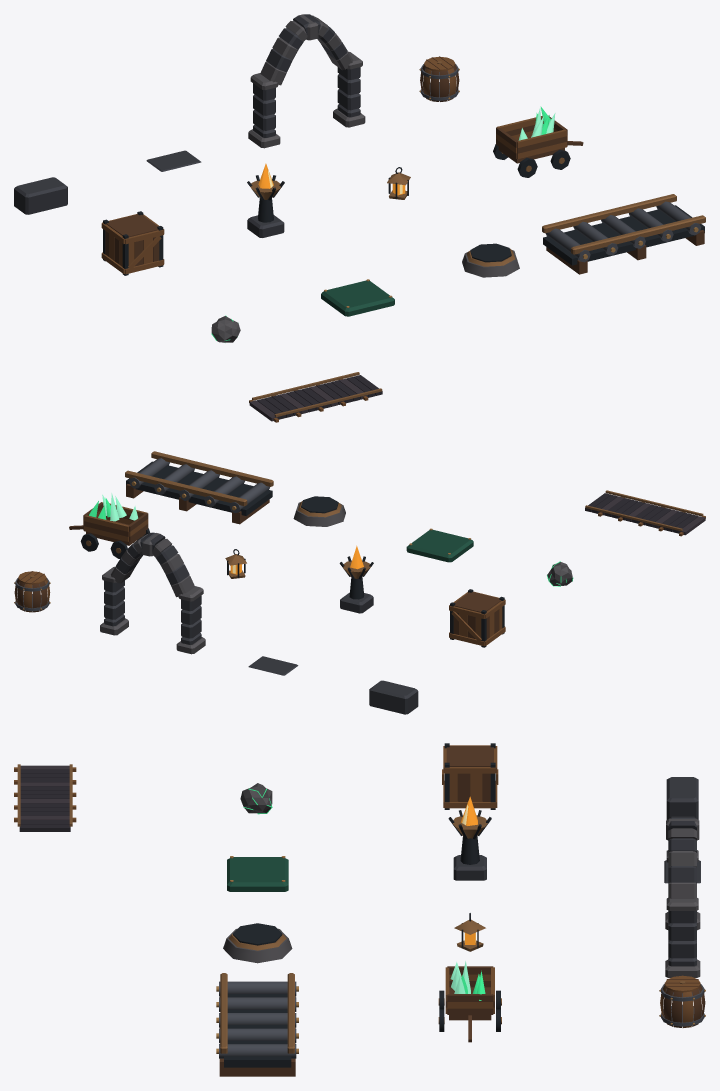
Rendered from dungeon-model-kit.glb.
The picture shows the model from 3 angles, top to bottom: view 1: azimuth 30°, elevation 25°; view 2: azimuth 150°, elevation 25°; view 3: azimuth 270°, elevation 25°; orthographic projection. The views are drawn at different scales.
Visible parts, largest first — view 1: iron-timber-conveyor-chassis, gothic-pointed-stone-arch, emerald-mine-cart, bronze-railed-snake-track, braced-timber-crate, jade-worker-pad, iron-crown-fire-brazier, wall-stone, coopered-ironbound-barrel, octagonal-storage-plinth, flagstone; view 2: iron-timber-conveyor-chassis, gothic-pointed-stone-arch, bronze-railed-snake-track, emerald-mine-cart, braced-timber-crate, jade-worker-pad, wall-stone, iron-crown-fire-brazier, coopered-ironbound-barrel, octagonal-storage-plinth, flagstone, green-veined-ore (+1 smaller); view 3: iron-timber-conveyor-chassis, gothic-pointed-stone-arch, bronze-railed-snake-track, braced-timber-crate, emerald-mine-cart, jade-worker-pad, octagonal-storage-plinth, coopered-ironbound-barrel, iron-crown-fire-brazier, wall-stone, green-veined-ore, caged-amber-lantern.
Boxes of the visible parts, x1,y1,x2,y2 form: iron-timber-conveyor-chassis: (542, 194, 705, 274); gothic-pointed-stone-arch: (248, 14, 365, 148); emerald-mine-cart: (493, 106, 583, 177); bronze-railed-snake-track: (249, 372, 382, 422); braced-timber-crate: (101, 211, 164, 275); jade-worker-pad: (321, 279, 394, 316); iron-crown-fire-brazier: (247, 163, 284, 237); wall-stone: (14, 177, 67, 214); coopered-ironbound-barrel: (419, 56, 459, 101); octagonal-storage-plinth: (462, 243, 519, 277); flagstone: (146, 150, 201, 171); iron-timber-conveyor-chassis: (125, 451, 273, 524); gothic-pointed-stone-arch: (100, 532, 205, 654); bronze-railed-snake-track: (585, 490, 705, 536); emerald-mine-cart: (69, 493, 150, 558); braced-timber-crate: (449, 589, 505, 647); jade-worker-pad: (406, 528, 473, 562); wall-stone: (369, 680, 418, 714); iron-crown-fire-brazier: (339, 545, 373, 613); coopered-ironbound-barrel: (14, 571, 50, 612); octagonal-storage-plinth: (293, 496, 345, 526); flagstone: (248, 656, 298, 675); green-veined-ore: (547, 561, 573, 586); iron-timber-conveyor-chassis: (216, 973, 298, 1076); gothic-pointed-stone-arch: (665, 816, 700, 977); bronze-railed-snake-track: (14, 764, 76, 831); braced-timber-crate: (442, 743, 498, 809); emerald-mine-cart: (438, 961, 501, 1042); jade-worker-pad: (227, 856, 288, 891); octagonal-storage-plinth: (223, 923, 292, 963); coopered-ironbound-barrel: (659, 975, 705, 1027); iron-crown-fire-brazier: (448, 796, 491, 880); wall-stone: (666, 777, 698, 819); green-veined-ore: (240, 783, 272, 814); caged-amber-lantern: (454, 913, 485, 951).
Size of the model in its own units: 9.81 by 2.28 by 9.77.
